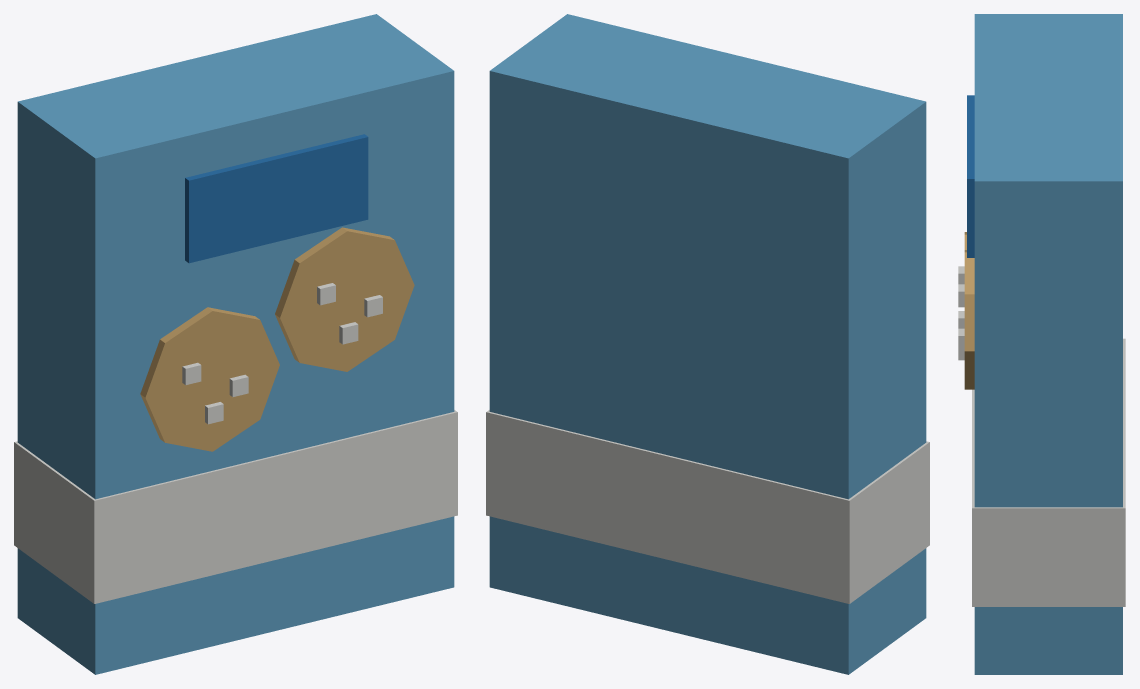
Rendered from hh_banh_dua.glb.
The picture shows the model from 3 angles, left to right: view 1: azimuth 30°, elevation 25°; view 2: azimuth 150°, elevation 25°; view 3: azimuth 270°, elevation 25°; orthographic projection. The views are drawn at different scales.
Parts seen in each view (by area): view 1: hh_banh_dua; view 2: hh_banh_dua; view 3: hh_banh_dua.
Boxes of the visible parts, x1,y1,x2,y2 form: hh_banh_dua: [14, 14, 457, 674]; hh_banh_dua: [486, 14, 929, 674]; hh_banh_dua: [958, 14, 1125, 674].
Size of the model in its own units: 0.162 by 0.22 by 0.0675.
